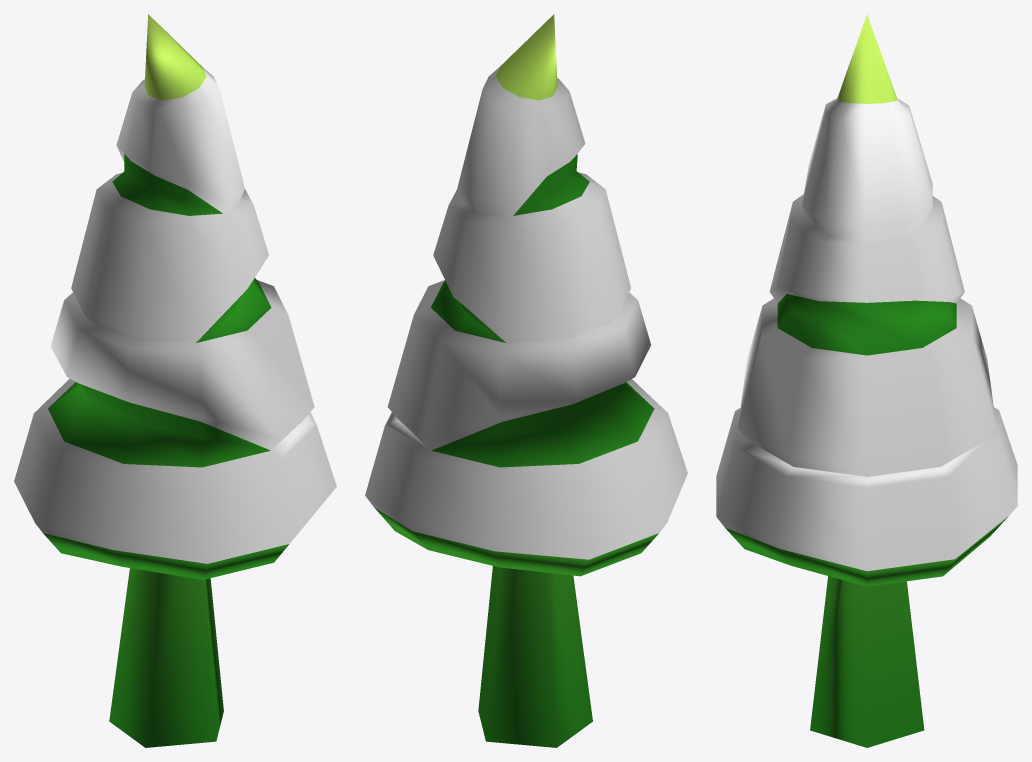
Rendered from VEG0210047.fbx.
3 views of the same model, side by side, from view 1: azimuth 30°, elevation 25°; view 2: azimuth 150°, elevation 25°; view 3: azimuth 270°, elevation 25° (orthographic). The views are drawn at different scales.
Visible parts, largest first — view 1: smVEG0210047; view 2: smVEG0210047; view 3: smVEG0210047.
Boxes of the visible parts, x1,y1,x2,y2 form: smVEG0210047: (14,14,336,747); smVEG0210047: (365,14,687,747); smVEG0210047: (716,14,1017,747).
Bounding box in the file's own units: 143 × 347 × 136.
1 material, 1 textured.
